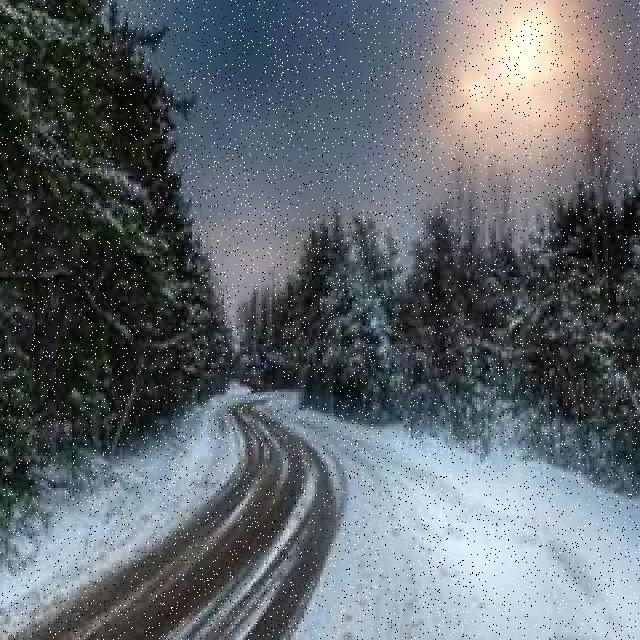ice-road: (5, 396, 349, 640)
